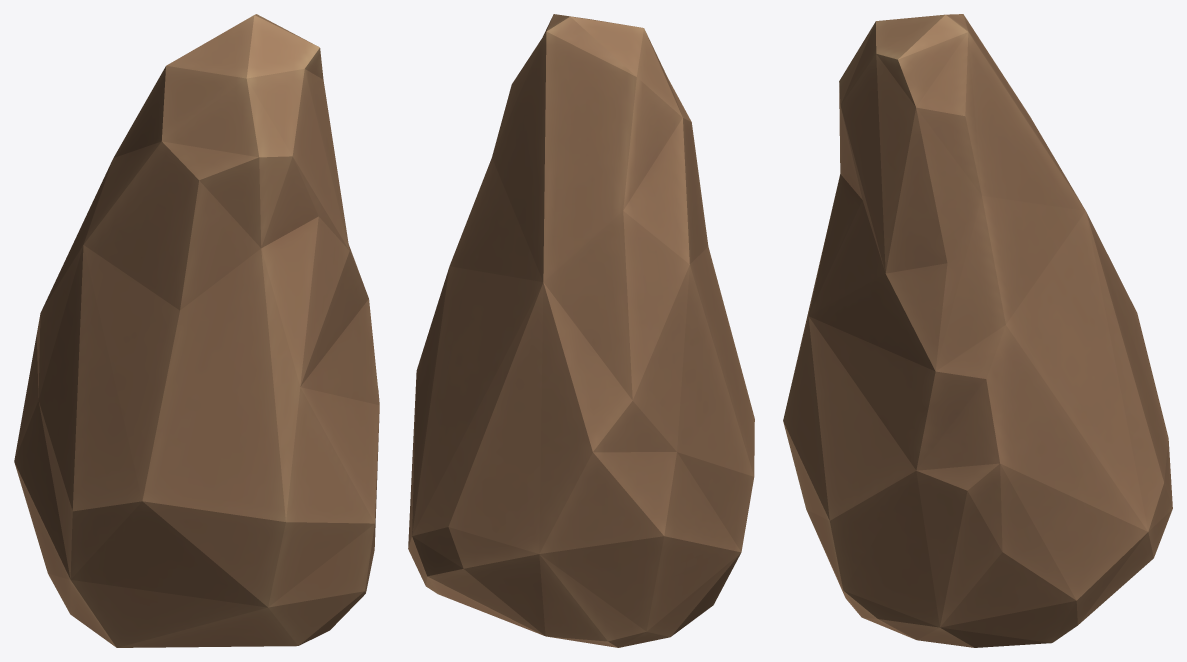
File: Rock_44.fbx
The picture shows the model from 3 angles, left to right: view 1: azimuth 30°, elevation 25°; view 2: azimuth 150°, elevation 25°; view 3: azimuth 270°, elevation 25°; orthographic projection. The views are drawn at different scales.
Parts seen in each view (by area): view 1: Rock_44; view 2: Rock_44; view 3: Rock_44.
Part boxes in pixels (box(x1,y1,x2,y2)): Rock_44: box(14, 14, 379, 647); Rock_44: box(408, 14, 754, 647); Rock_44: box(783, 14, 1172, 647).
Size of the model in its own units: 30.19 by 31.85 by 52.89.
Materials: 1 (1 with a texture image).
